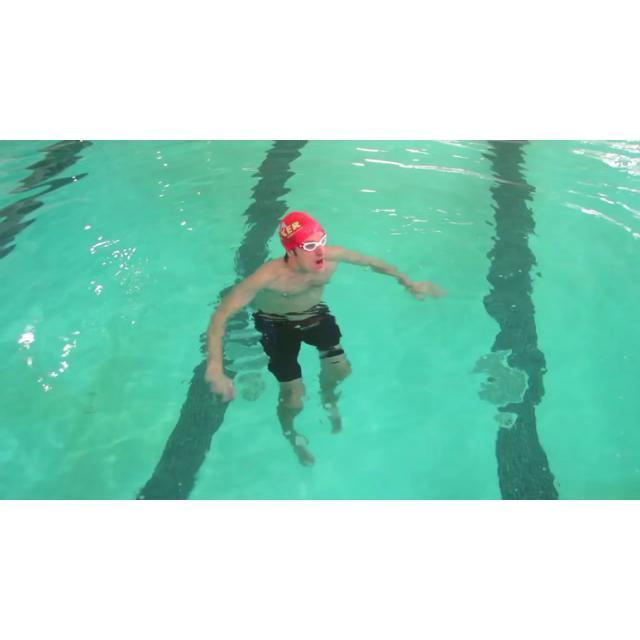human: (205, 212, 447, 468)
